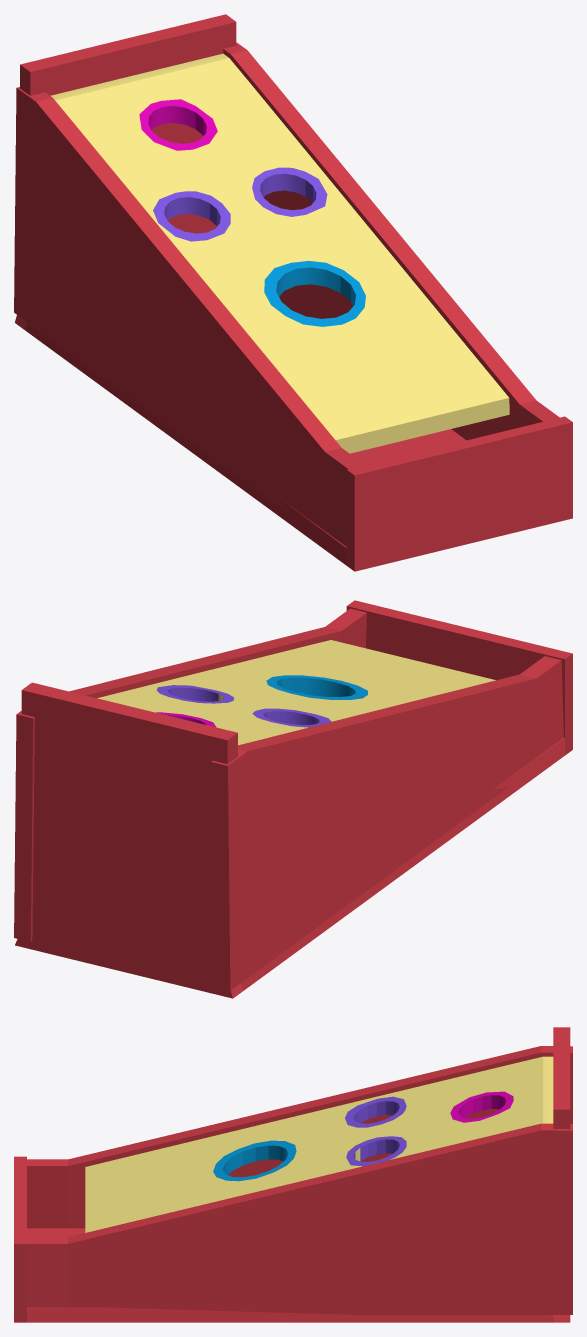
The model's file is BallGame_2.fbx.
The picture shows the model from 3 angles, top to bottom: view 1: azimuth 30°, elevation 25°; view 2: azimuth 150°, elevation 25°; view 3: azimuth 270°, elevation 25°; orthographic projection. The views are drawn at different scales.
Parts seen in each view (by area): view 1: Cube.005, Cube.007, Cube.012, Cube.004, Cube.010, Cube.011; view 2: Cube.007, Cube.011, Cube.005, Cube.004, Cube.012, Cube.010; view 3: Cube.004, Cube.005, Cube.007, Cube.010, Cube.012, Cube.011.
Part boxes in pixels (x1,y1,x2,y2): Cube.005: (50, 53, 509, 453); Cube.007: (14, 87, 364, 546); Cube.012: (346, 416, 572, 553); Cube.004: (223, 42, 559, 440); Cube.010: (14, 315, 572, 571); Cube.011: (20, 14, 236, 233); Cube.007: (211, 656, 563, 990); Cube.011: (21, 682, 237, 976); Cube.005: (97, 640, 495, 745); Cube.004: (14, 608, 366, 941); Cube.012: (346, 600, 572, 737); Cube.010: (15, 732, 572, 998); Cube.004: (27, 1123, 572, 1314); Cube.005: (85, 1056, 553, 1232); Cube.007: (27, 1046, 572, 1228); Cube.010: (14, 1228, 570, 1322); Cube.012: (14, 1156, 26, 1308); Cube.011: (553, 1027, 570, 1129).
Bounding box in the file's own units: 333 × 374 × 902.
